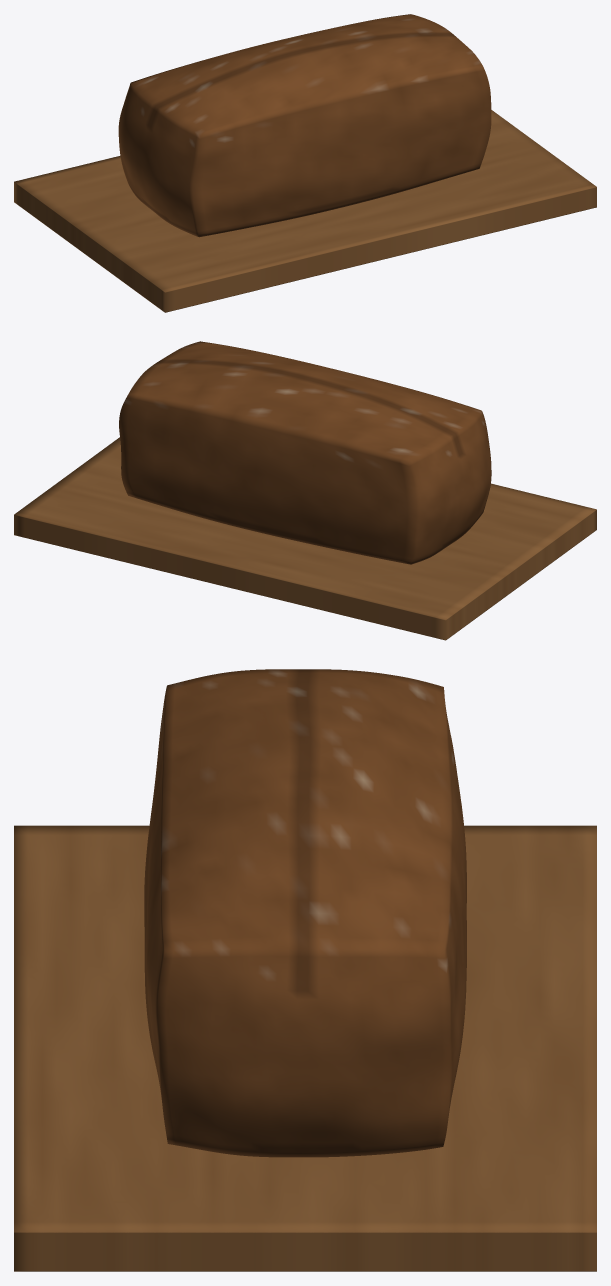
Rendered from qora_non.glb.
The picture shows the model from 3 angles, top to bottom: view 1: azimuth 30°, elevation 25°; view 2: azimuth 150°, elevation 25°; view 3: azimuth 270°, elevation 25°; orthographic projection. The views are drawn at different scales.
Visible parts, largest first — view 1: brick, board; view 2: brick, board; view 3: board, brick.
Part boxes in pixels (x1=…): brick: x1=118, y1=14, x2=491, y2=237; board: x1=14, y1=110, x2=596, y2=312; brick: x1=119, y1=341, x2=491, y2=564; board: x1=14, y1=437, x2=596, y2=640; board: x1=14, y1=825, x2=596, y2=1271; brick: x1=144, y1=669, x2=466, y2=1157.
Size of the model in its own units: 0.66 by 0.2254 by 0.4.
